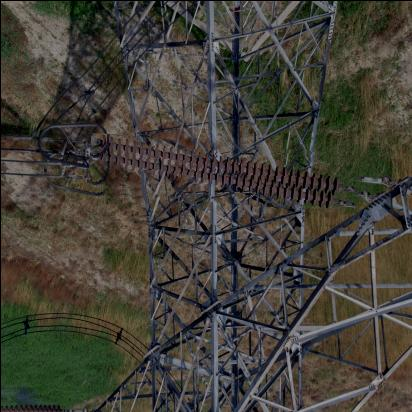insulator: (88, 138, 361, 209)
